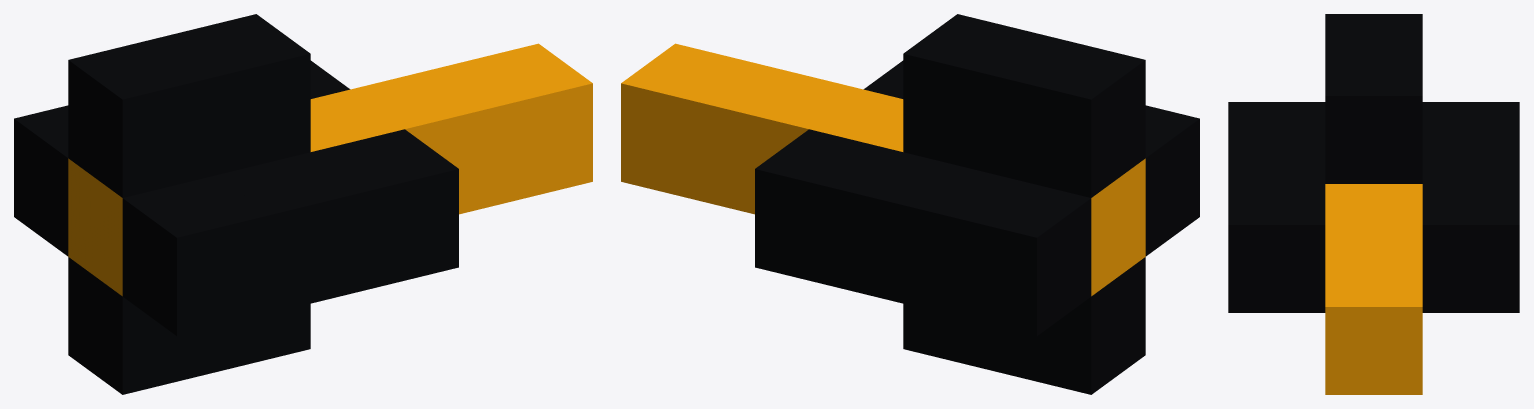
The model's file is BlasterSmall1.FBX.
3 renders of one model, left to right at view 1: azimuth 30°, elevation 25°; view 2: azimuth 150°, elevation 25°; view 3: azimuth 270°, elevation 25°, orthographic. The views are drawn at different scales.
Parts seen in each view (by area): view 1: BlasterSmall1Turret, BlasterSmall1Base; view 2: BlasterSmall1Turret, BlasterSmall1Base; view 3: BlasterSmall1Turret, BlasterSmall1Base.
Boxes of the visible parts, x1,y1,x2,y2 form: BlasterSmall1Turret: (163, 14, 592, 371); BlasterSmall1Base: (14, 37, 270, 394); BlasterSmall1Turret: (621, 14, 1050, 371); BlasterSmall1Base: (943, 37, 1199, 394); BlasterSmall1Turret: (1228, 55, 1519, 394); BlasterSmall1Base: (1228, 14, 1519, 142).
Bounding box in the file's own units: 5 × 3 × 3.
